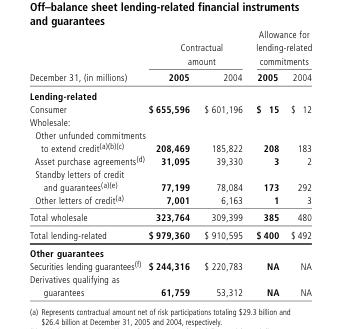table: (28, 28, 311, 297)
table column: (28, 28, 146, 297), (196, 28, 248, 297), (146, 28, 196, 297), (248, 28, 284, 297), (284, 28, 311, 297)
table column header: (28, 28, 311, 86)
table projected row header: (28, 86, 311, 101), (28, 243, 311, 258), (28, 115, 311, 128)
table row: (28, 28, 311, 68), (28, 128, 311, 153), (28, 167, 311, 192), (28, 272, 311, 297), (28, 68, 311, 86), (28, 225, 311, 243), (28, 208, 311, 225), (28, 192, 311, 208), (28, 86, 311, 101), (28, 243, 311, 258), (28, 101, 311, 115), (28, 153, 311, 167), (28, 258, 311, 272), (28, 115, 311, 128)
table spanning cell: (28, 28, 146, 86), (146, 28, 248, 68), (248, 28, 311, 68)
